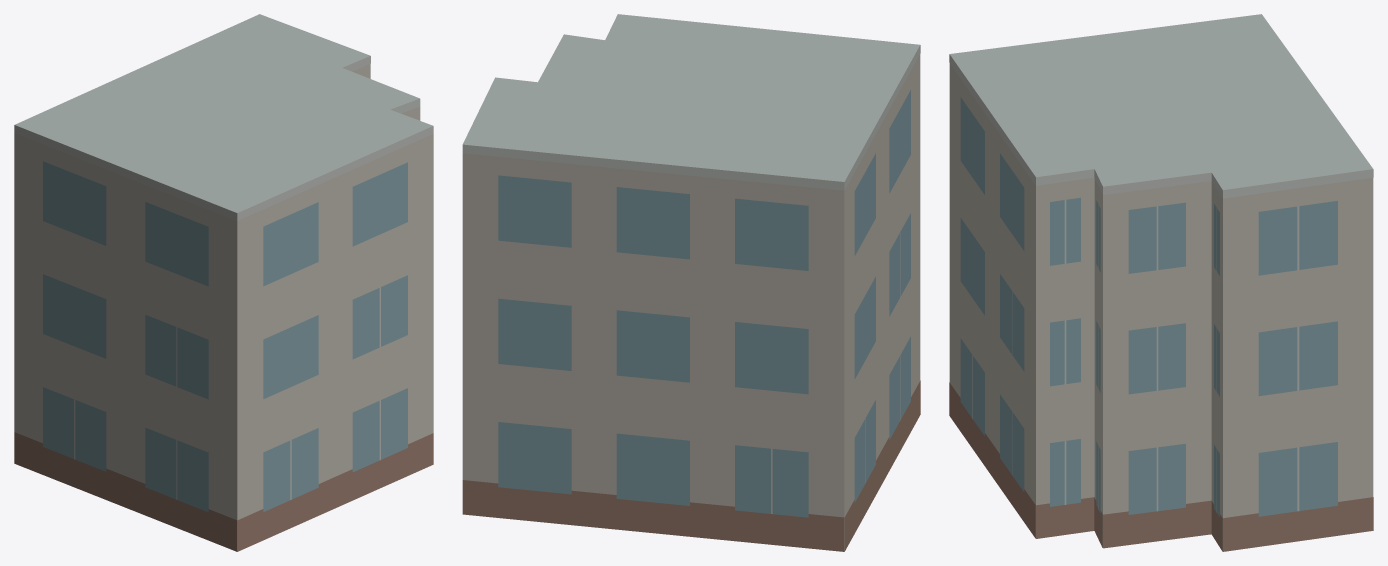
The model's file is survey-upis-32509784.glb.
The picture shows the model from 3 angles, left to right: view 1: azimuth 30°, elevation 25°; view 2: azimuth 150°, elevation 25°; view 3: azimuth 270°, elevation 25°; orthographic projection. The views are drawn at different scales.
Parts seen in each view (by area): view 1: survey-upis-32509784.tmp; view 2: survey-upis-32509784.tmp; view 3: survey-upis-32509784.tmp.
Boxes of the visible parts, x1,y1,x2,y2 form: survey-upis-32509784.tmp: [14, 14, 433, 551]; survey-upis-32509784.tmp: [462, 14, 920, 551]; survey-upis-32509784.tmp: [949, 14, 1373, 551].
Size of the model in its own units: 10.88 by 10.4 by 11.06.
